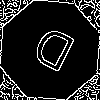D: (25, 25, 78, 82)
